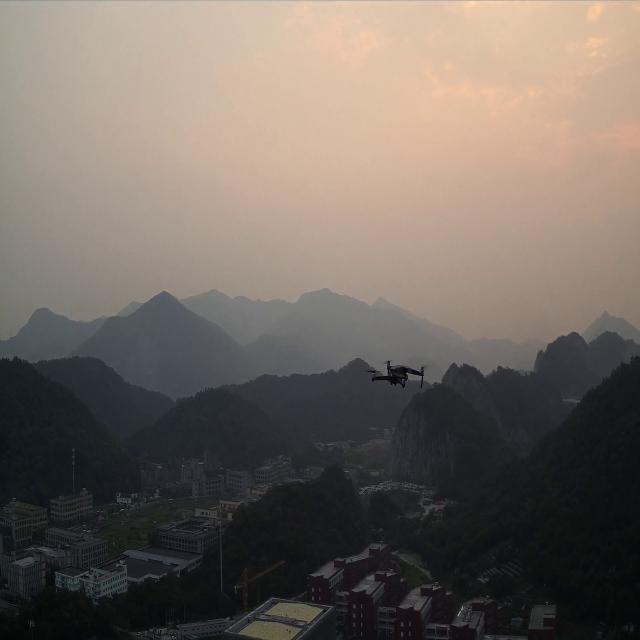UAV: (363, 357, 434, 391)
